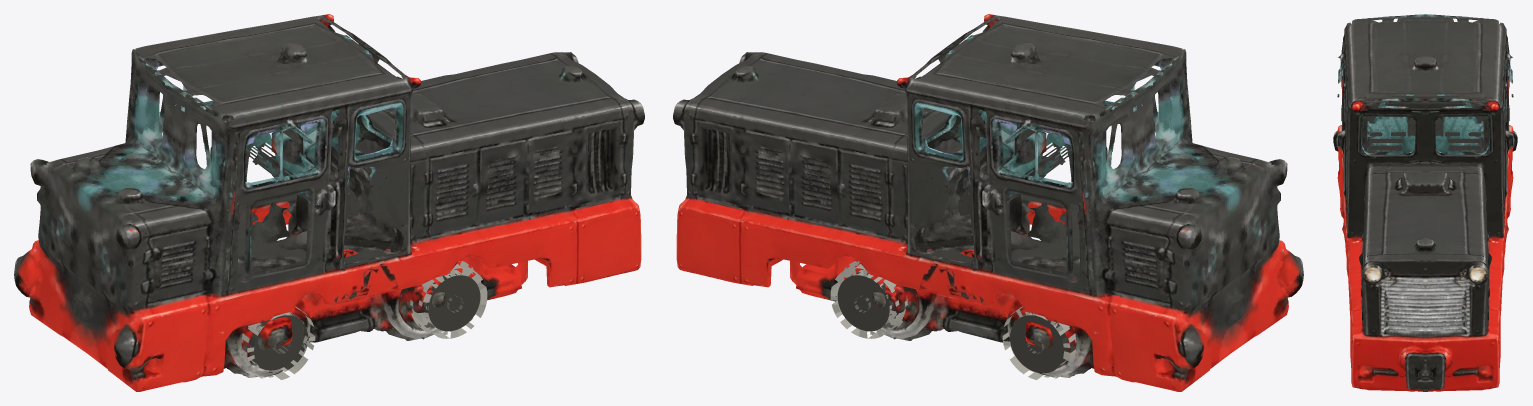
The picture shows the model from 3 angles, left to right: view 1: azimuth 30°, elevation 25°; view 2: azimuth 150°, elevation 25°; view 3: azimuth 270°, elevation 25°; orthographic projection. The views are drawn at different scales.
Parts seen in each view (by area): view 1: body, body.mirror, body_gear; view 2: body.mirror, body, body_gear; view 3: body, body.mirror.
Boxes of the visible parts, x1,y1,x2,y2 form: body: (78,45,644,391); body.mirror: (14,14,595,352); body_gear: (241,250,487,379); body.mirror: (673,45,1239,391); body: (722,14,1303,352); body_gear: (830,250,1076,379); body: (1333,14,1425,391); body.mirror: (1425,14,1517,391).
Size of the model in its own units: 5.12 by 2.69 by 1.86.
1 material, 1 textured.
